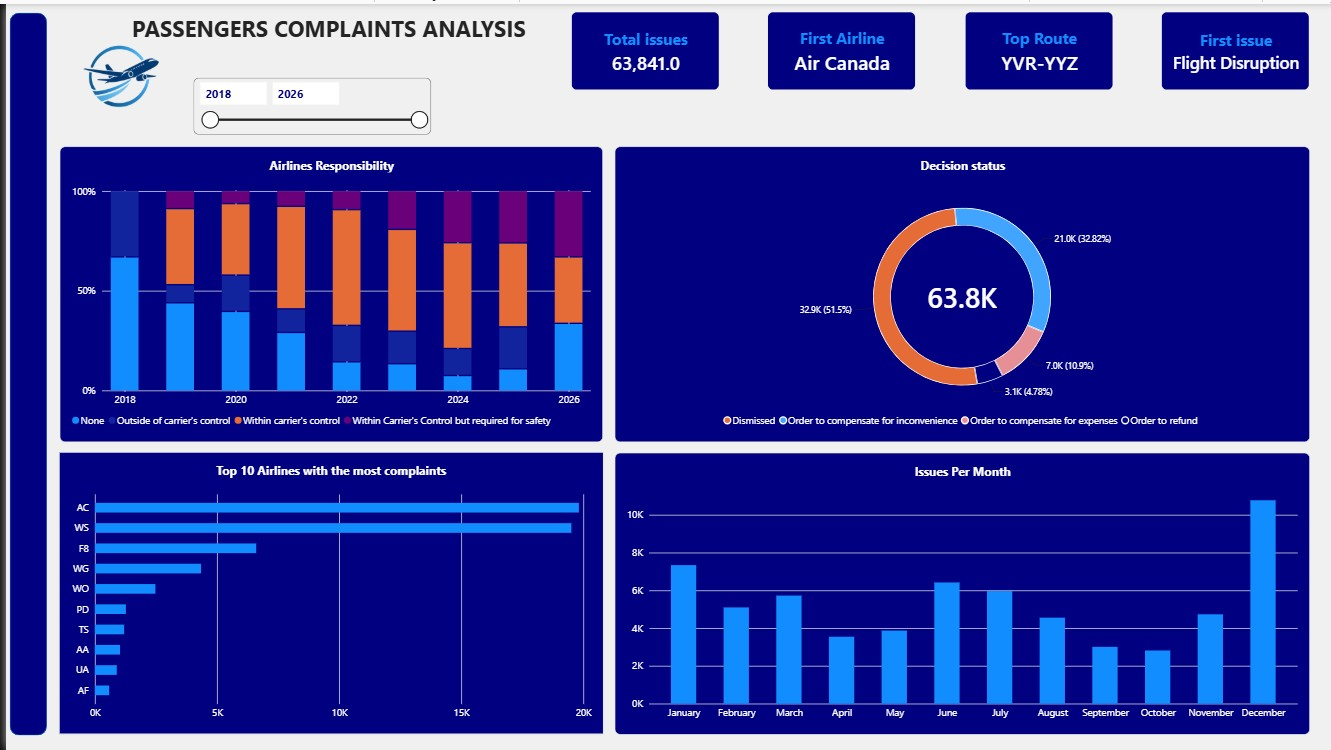

This screenshot's page, from the dashboard's own definition file:
{"tool":"powerbi","page":{"name":"Airline and issue analysis","canvas":[1920,1080],"ordinal":0},"visuals":[{"type":"barChart","title":"Top 10 Airlines with the most complaints","fields":{"Category":["airlines.airlineCode"],"Y":["Key Measures.Total issues"]},"box":[78,650,786,406],"z":0},{"type":"clusteredColumnChart","title":"Issues Per Month","fields":{"Category":["Calendar.MonthName"],"Y":["Key Measures.Total issues"]},"box":[882,650,1006,408],"z":1000},{"type":"slicer","fields":{"Values":["Calendar.Year"]},"box":[272,106,344,82],"z":2000},{"type":"hundredPercentStackedColumnChart","title":"Airlines Responsibility","fields":{"Category":["Calendar.Year"],"Series":["carrier_responsibility.carrierControl"],"Y":["Key Measures.Total issues"]},"box":[78,206,786,428],"z":3000},{"type":"cardVisual","fields":{"Data":["Key Measures.Total issues"]},"box":[818,10,215.3,114],"z":4000},{"type":"shape","box":[5.1,12.8,53.8,1046.2],"z":5000},{"type":"image","box":[78,44,172,124],"z":6000},{"type":"textbox","box":[158,12,629.2,62.5],"z":9000},{"type":"donutChart","title":"Decision status","fields":{"Category":["ordercategory.orderStatement"],"Y":["Key Measures.Total issues"]},"box":[882,206,1006,428],"z":10000},{"type":"cardVisual","fields":{"Data":["Min(airlines.airlines_names)"]},"box":[1102.7,10,215.3,114],"z":11000},{"type":"cardVisual","fields":{"Data":["Min(itinerary_table.itinerary)"]},"box":[1387.3,10,215.3,114],"z":12000},{"type":"cardVisual","fields":{"Data":["Min(issuescategory.issue)"]},"box":[1672,10,215.3,114],"z":13000}]}

Visuals, with their boxes in screenshot pixels (x1, y1, x2, y2), scaled from the page's 1920x1080 canvas onto the 1331x750 screenshot:
"Top 10 Airlines with the most complaints" barChart: box(54, 451, 599, 733)
"Issues Per Month" clusteredColumnChart: box(611, 451, 1309, 735)
slicer - Calendar.Year: box(189, 74, 427, 131)
"Airlines Responsibility" hundredPercentStackedColumnChart: box(54, 143, 599, 440)
cardVisual - Key Measures.Total issues: box(567, 7, 716, 86)
shape: box(4, 9, 41, 735)
image: box(54, 31, 173, 117)
textbox: box(110, 8, 546, 52)
"Decision status" donutChart: box(611, 143, 1309, 440)
cardVisual - Min(airlines.airlines_names): box(764, 7, 914, 86)
cardVisual - Min(itinerary_table.itinerary): box(962, 7, 1111, 86)
cardVisual - Min(issuescategory.issue): box(1159, 7, 1308, 86)
